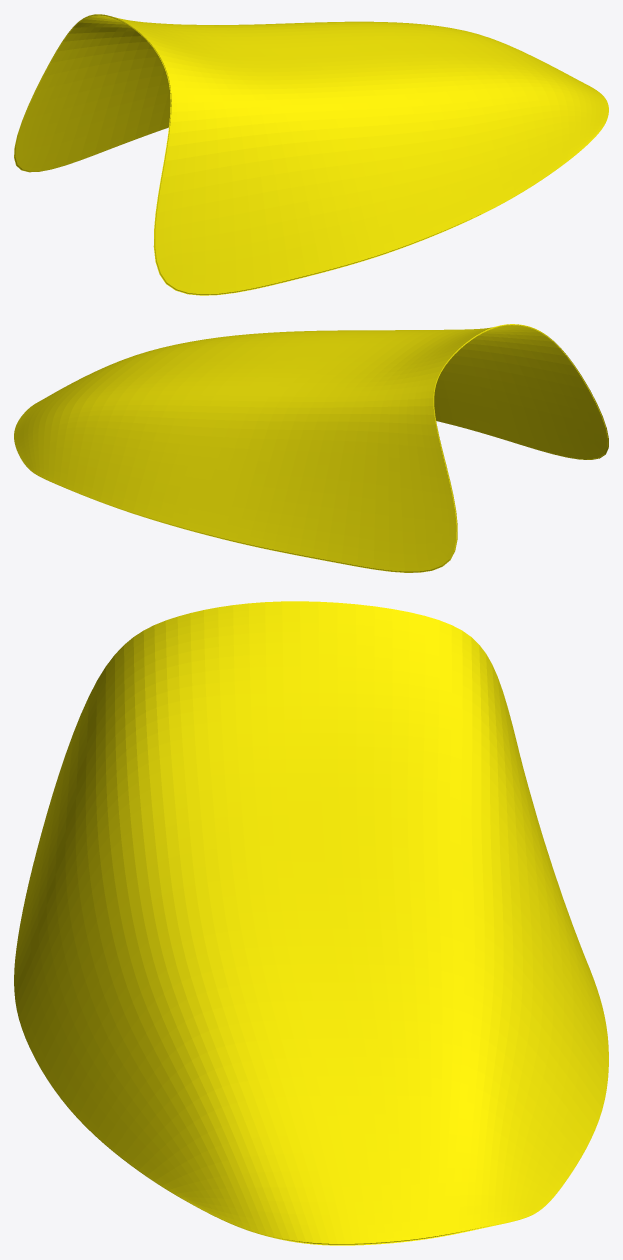
The model's file is frontRightYellow.obj.
3 views of the same model, one above another, from view 1: azimuth 30°, elevation 25°; view 2: azimuth 150°, elevation 25°; view 3: azimuth 270°, elevation 25° (orthographic). The views are drawn at different scales.
Parts seen in each view (by area): view 1: Plane; view 2: Plane; view 3: Plane.
Boxes of the visible parts, box(x1,y1,x2,y2) form: Plane: box(14, 14, 608, 295); Plane: box(14, 324, 608, 572); Plane: box(14, 601, 608, 1245).
Bounding box in the file's own units: 14.6 × 5.14 × 9.
Materials: 1 (1 with a texture image).
